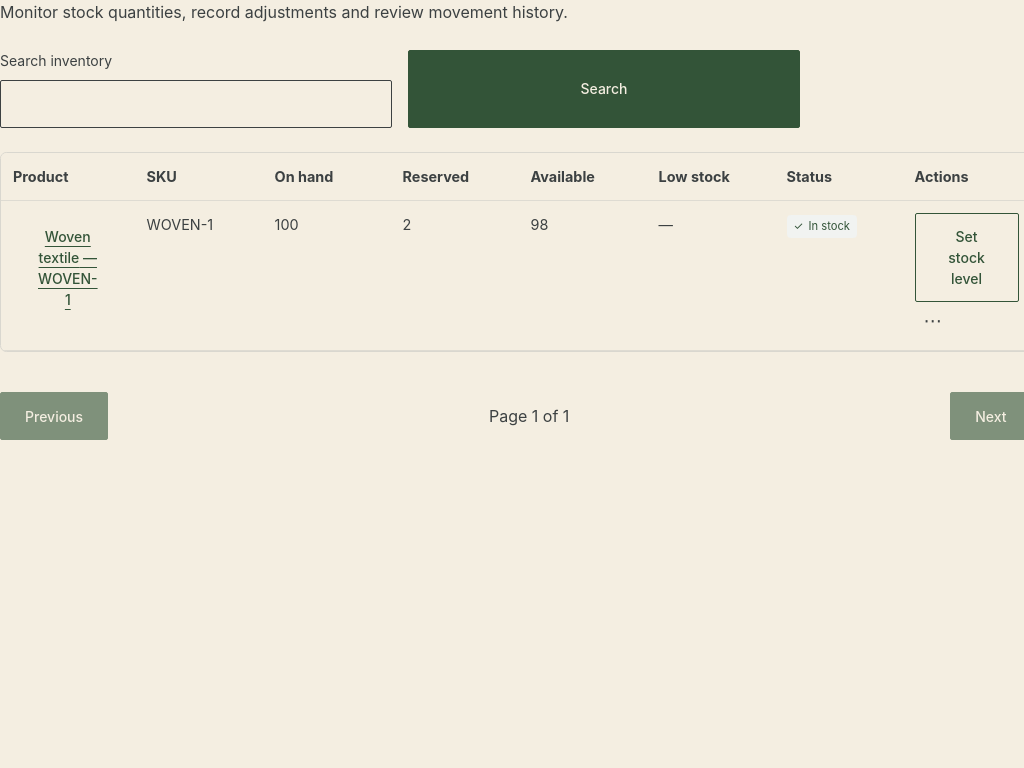
Test: inventory administration › pages a structured history table without opening adjustment
This screenshot has width=1024, height=768.
Step 1. Click the button named "More actions" → x=933, y=320, box [915,302,951,338]
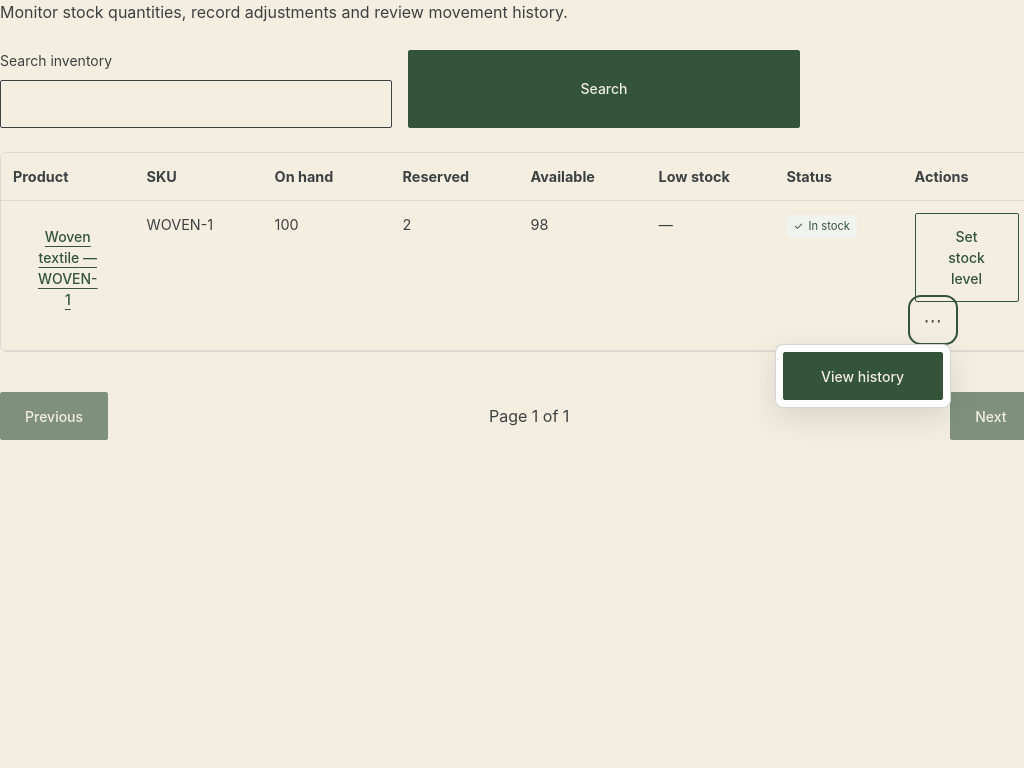
Step 2. Click the button "View history" → x=863, y=376, box [783,352,943,400]
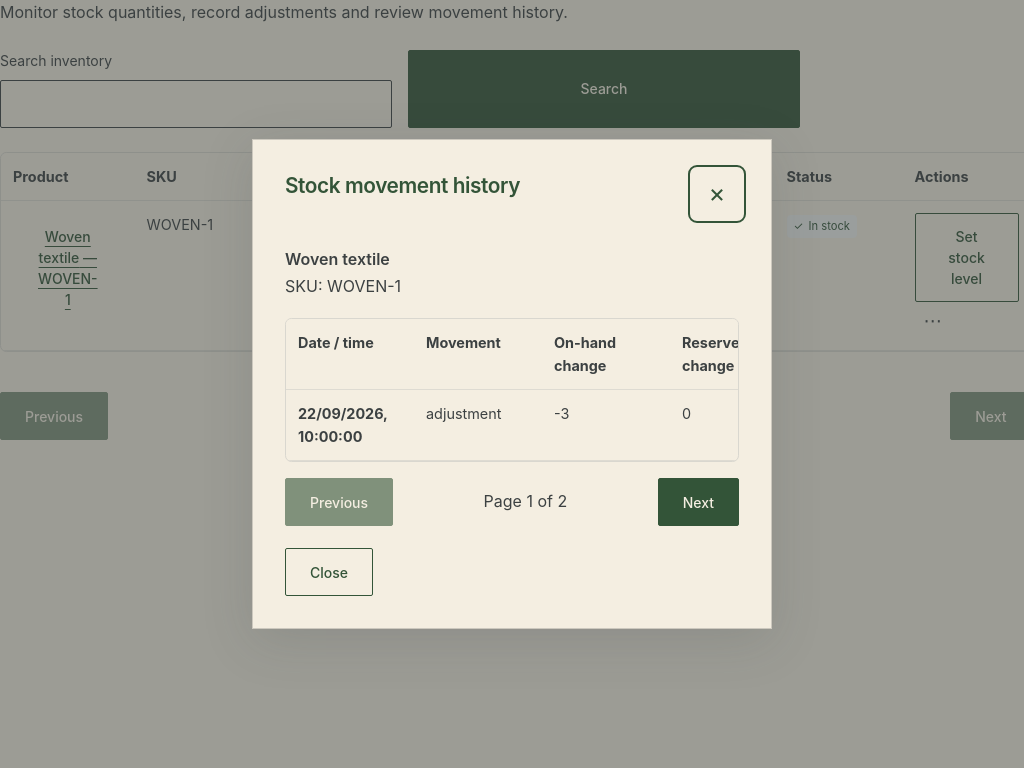
Step 3. Click the button "Next" → x=698, y=502, box [658,478,739,526]
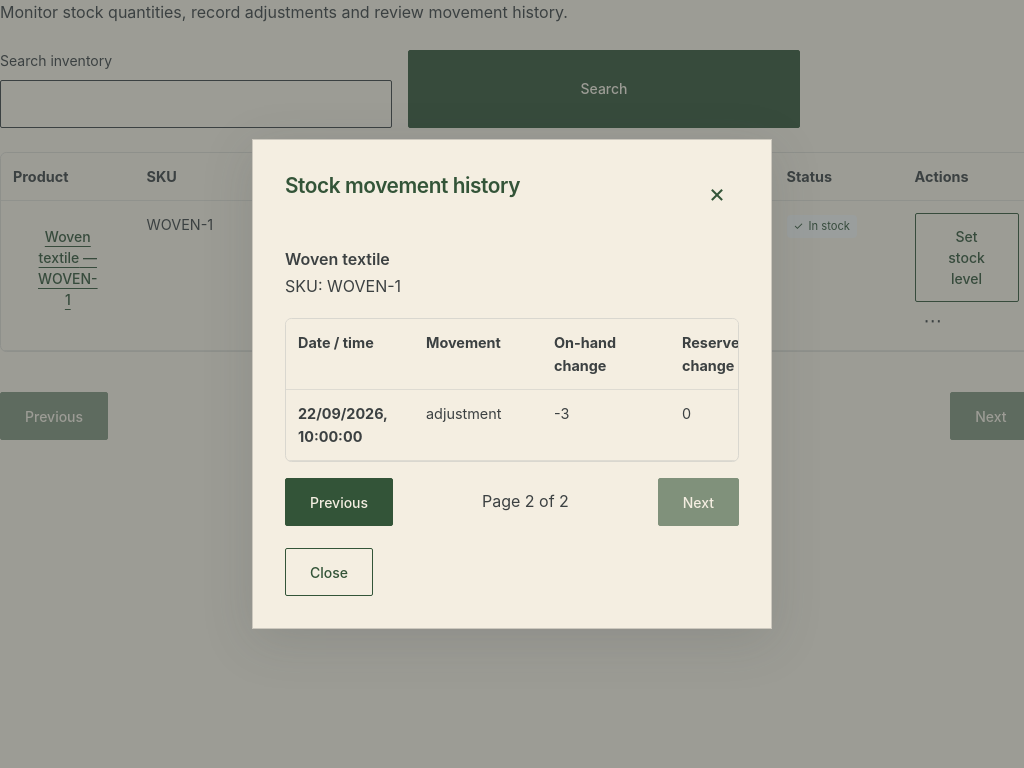
Expected: the text "Page 2 of 2" is shown, [482,489,569,515]
